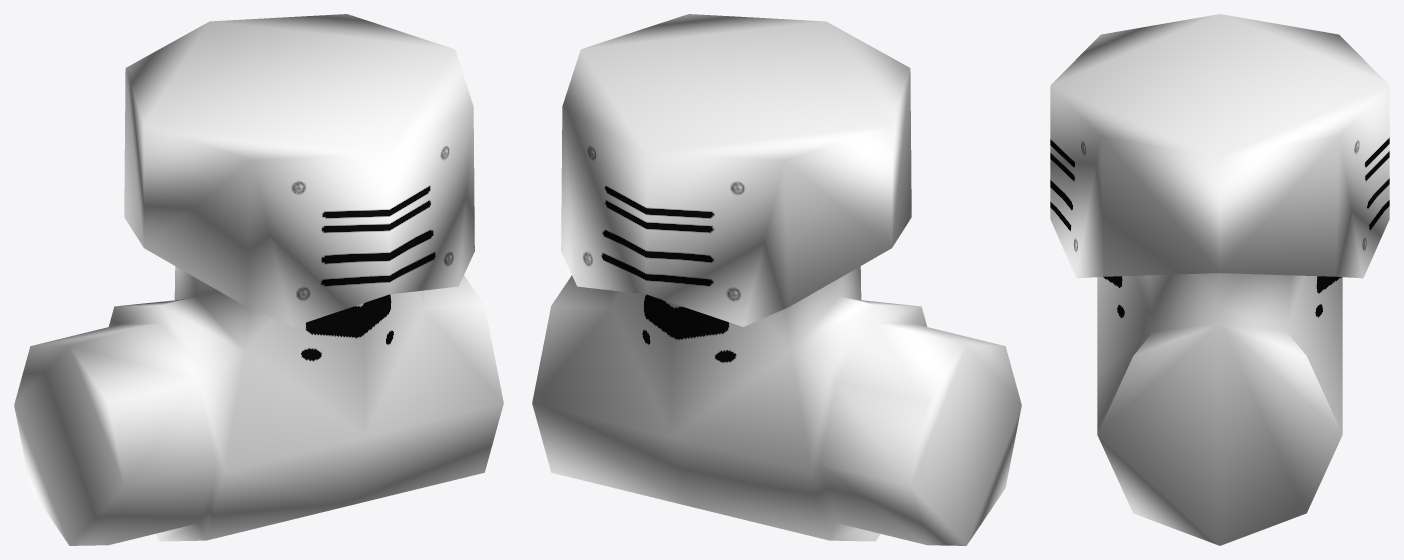
Rendered from aj2_left.obj.
3 renders of one model, left to right at view 1: azimuth 30°, elevation 25°; view 2: azimuth 150°, elevation 25°; view 3: azimuth 270°, elevation 25°, orthographic. The views are drawn at different scales.
Bounding box in the file's own units: 0.176 × 0.1833 × 0.1423.
1 material, 1 textured.
